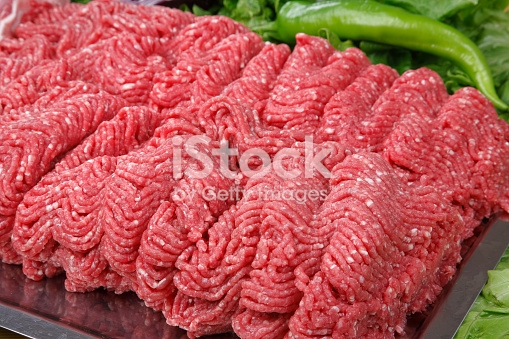ground_beef: (1, 43, 504, 282)
